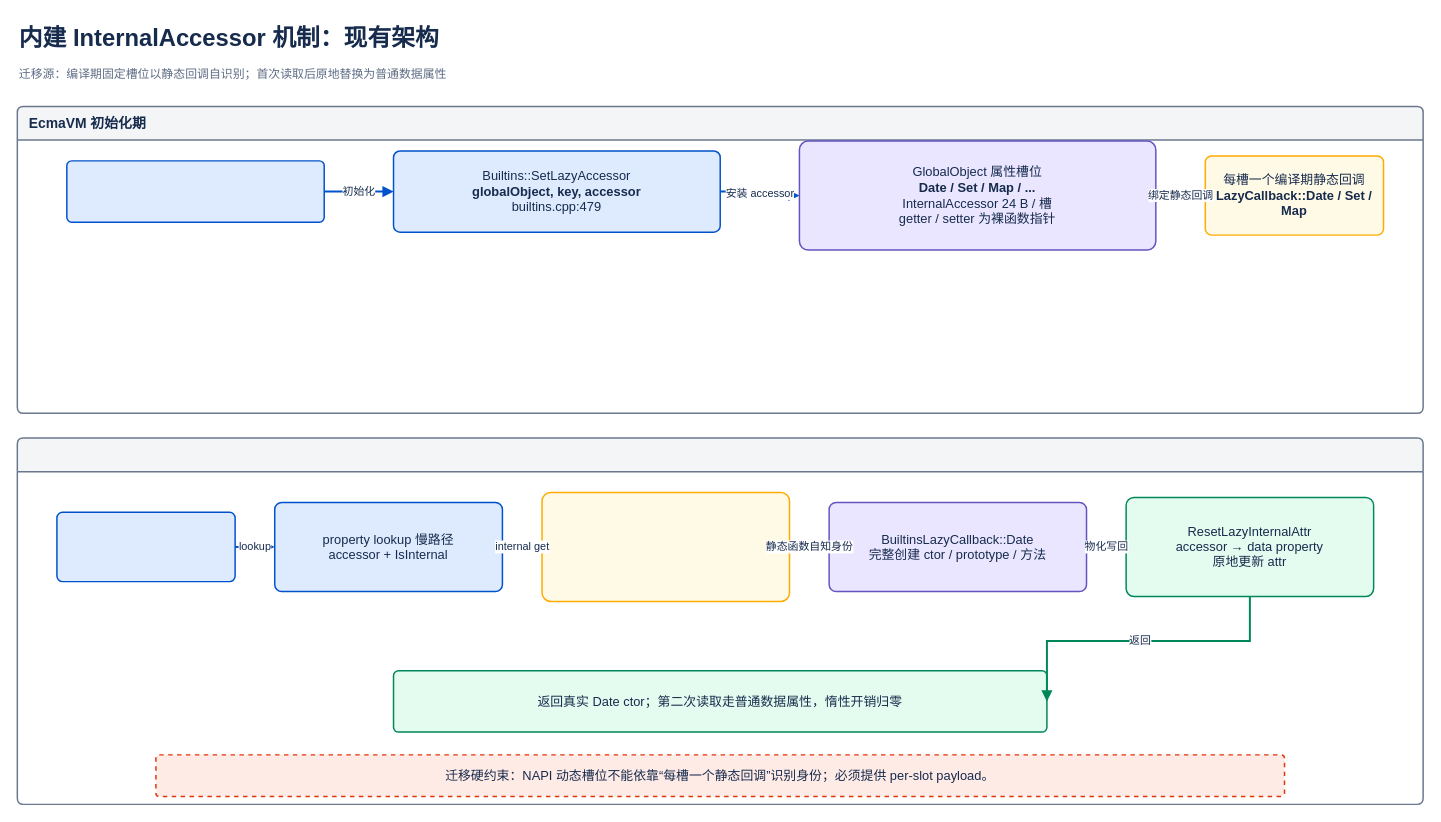
The diagram is 1441 pixels wide and 822 high, and some of its shapes have lost their labels. The box of each missing label's shape, as (x1, y1, x2, y2) in pixels:
Builtins::Initialize: (66, 160, 325, 223)
CallInternalGet (thread, receiver) 不接收 key / self: (541, 491, 790, 602)
JS 读取 global.Date: (56, 511, 235, 582)
首次读取期: (16, 437, 1423, 805)
